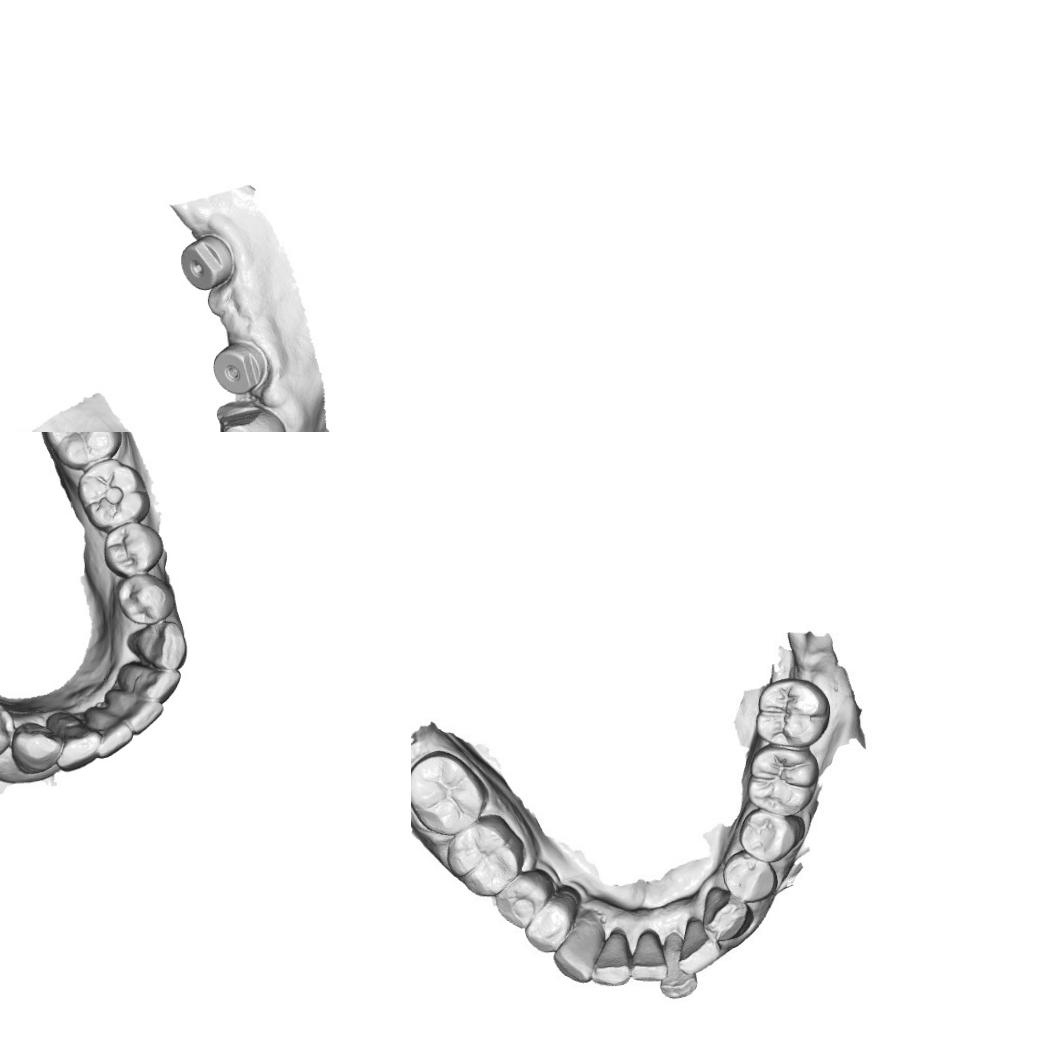canine: (550, 915, 602, 992), (123, 618, 188, 671), (9, 718, 61, 778), (214, 398, 287, 432), (706, 884, 744, 944)
implant: (179, 233, 239, 293), (210, 342, 269, 395)
incisor: (50, 712, 101, 774), (108, 688, 164, 736), (118, 662, 181, 704), (594, 929, 636, 990), (677, 916, 721, 972), (628, 926, 668, 980), (662, 935, 696, 997), (93, 710, 134, 761)
molar: (71, 460, 146, 532), (411, 754, 480, 831), (448, 820, 518, 890), (755, 682, 827, 743), (752, 749, 820, 812), (41, 432, 119, 470)
premolar: (102, 522, 161, 579), (740, 810, 798, 862), (116, 574, 176, 624), (525, 895, 577, 952), (499, 874, 550, 926), (728, 854, 774, 902), (0, 698, 15, 761)
